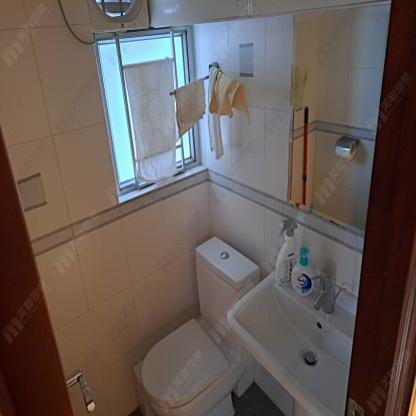Exhaust Fan: (87, 0, 149, 33)
Toilet: (144, 236, 260, 413)
Toilet Sink: (227, 254, 359, 416)
